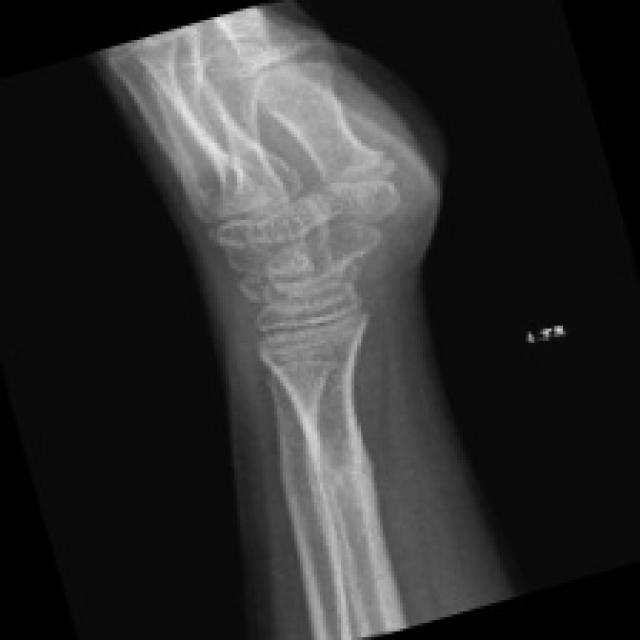fracture: (287, 442, 388, 528)
